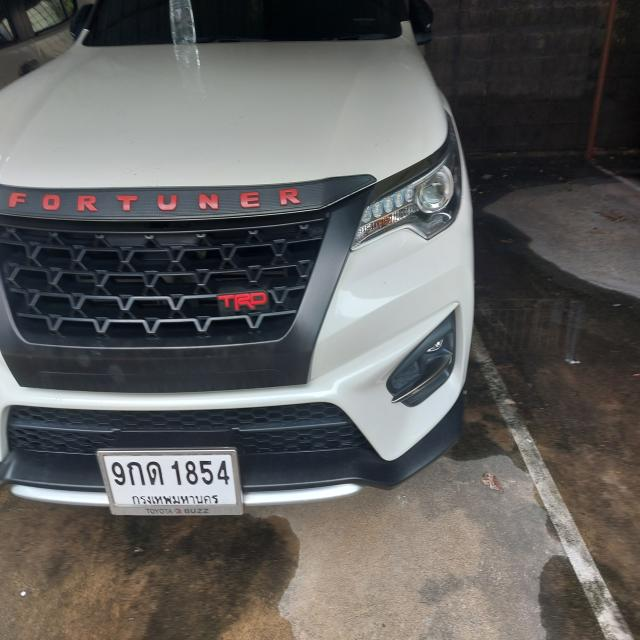license_plate: (92, 446, 246, 521)
